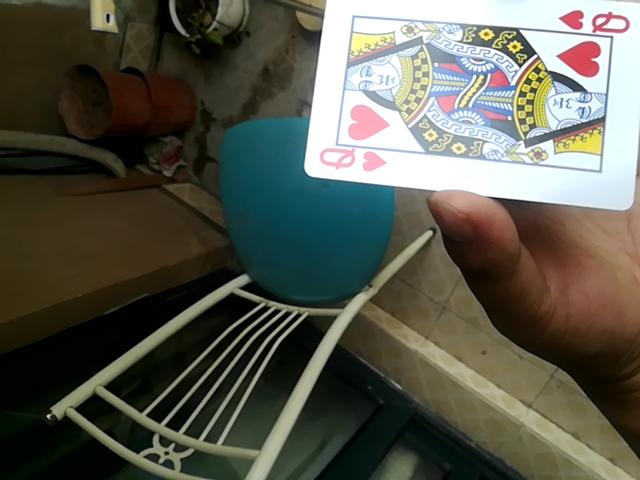hx q: (301, 1, 639, 215)
